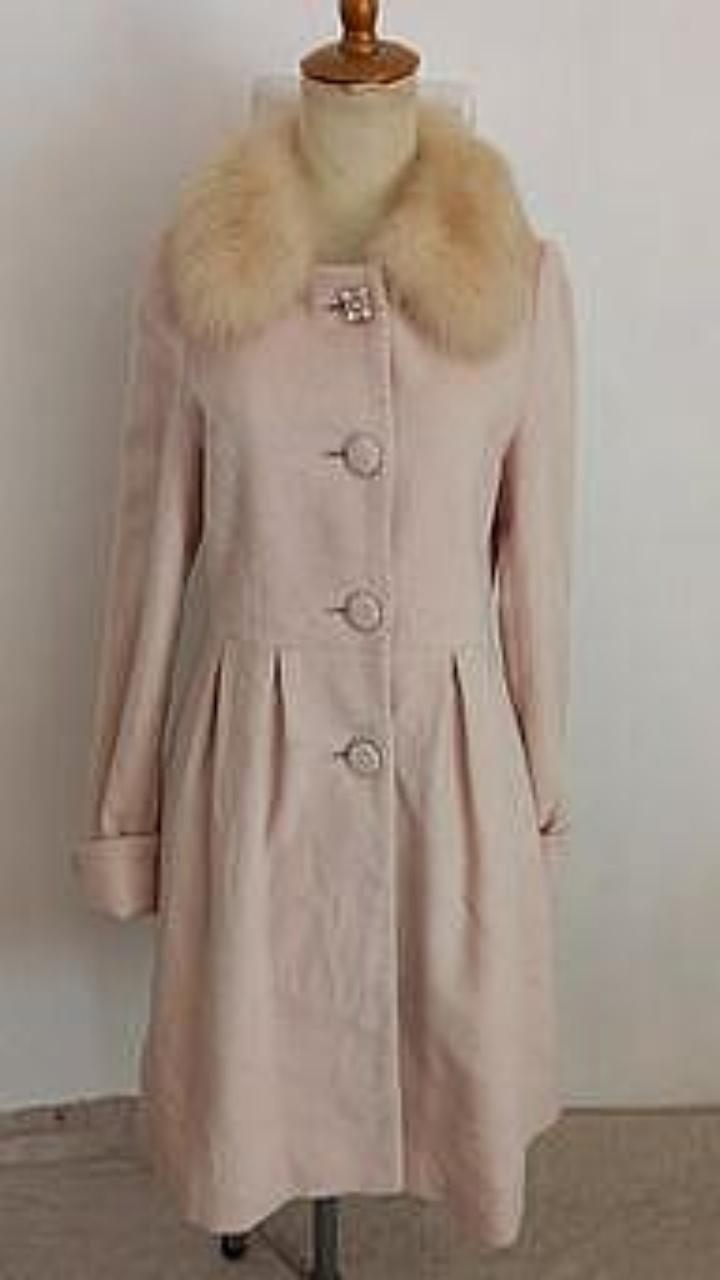Coat: (73, 99, 574, 1245)
